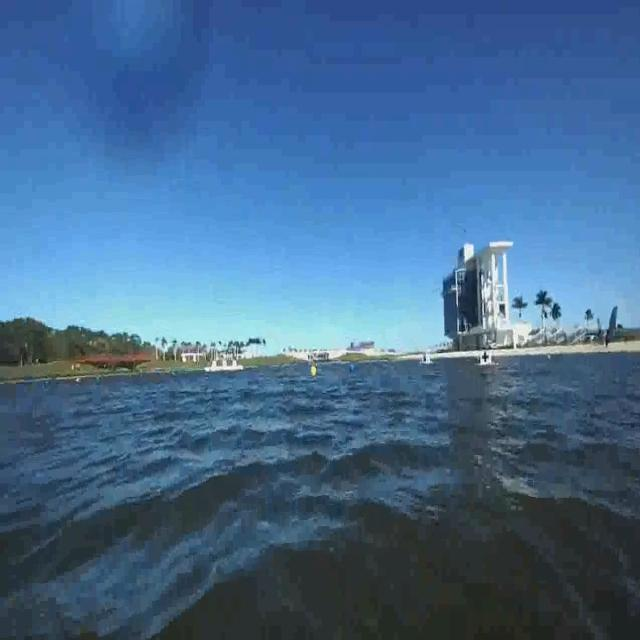blue-buoy: (350, 365, 356, 374)
yellow-buoy: (311, 363, 318, 377)
